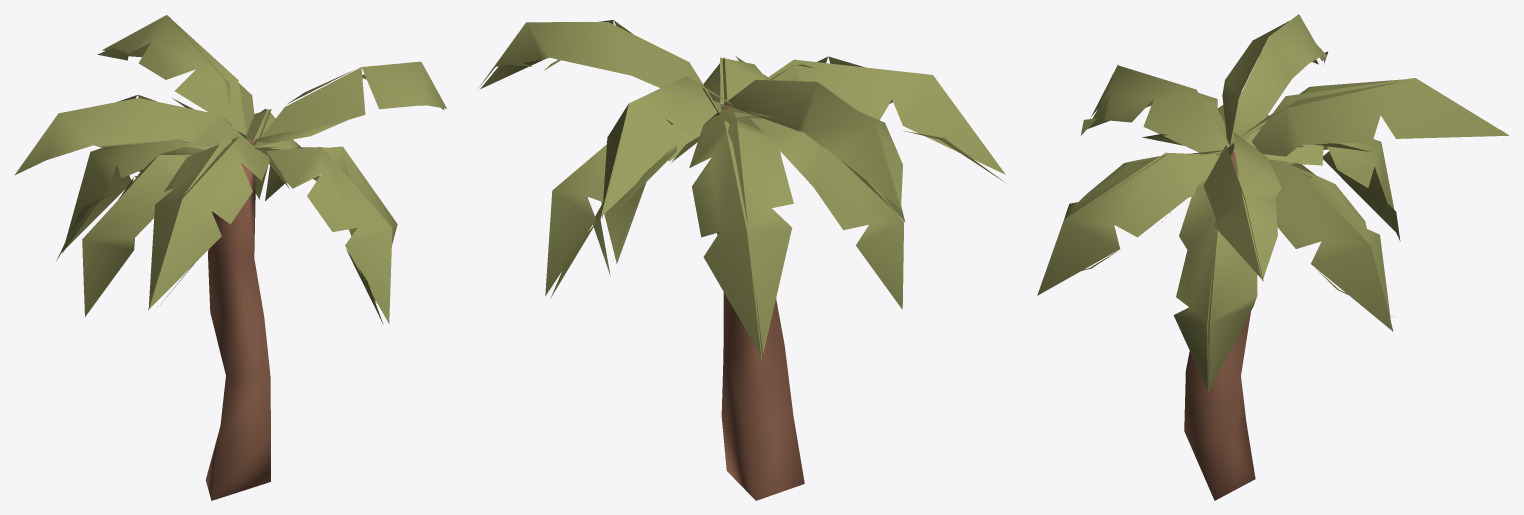
Rendered from palm.glb.
3 views of the same model, side by side, from view 1: azimuth 30°, elevation 25°; view 2: azimuth 150°, elevation 25°; view 3: azimuth 270°, elevation 25° (orthographic). The views are drawn at different scales.
Visible parts, largest first — view 1: Environment_PalmTree_3; view 2: Environment_PalmTree_3; view 3: Environment_PalmTree_3.
Part boxes in pixels (bbox=[...]): Environment_PalmTree_3: bbox=[14, 15, 446, 500]; Environment_PalmTree_3: bbox=[479, 20, 1006, 500]; Environment_PalmTree_3: bbox=[1037, 14, 1508, 500].
Size of the model in its own units: 7.44 by 7.03 by 7.17.
1 material, 1 textured.
